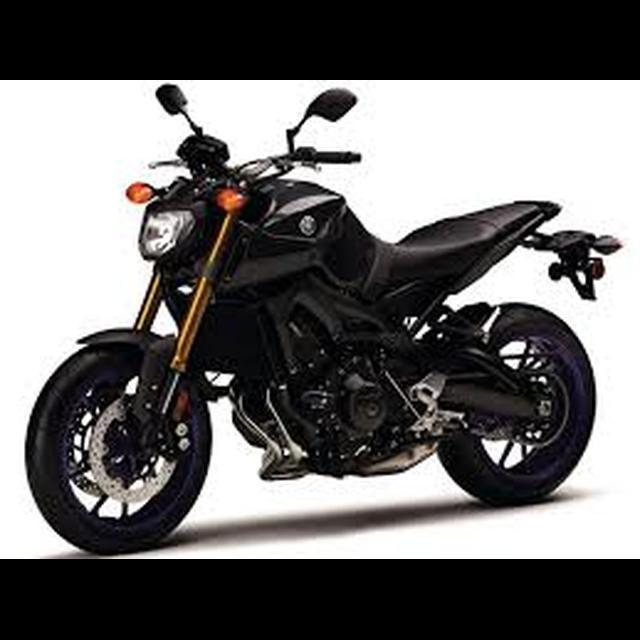motorcycle: (23, 79, 628, 560)
